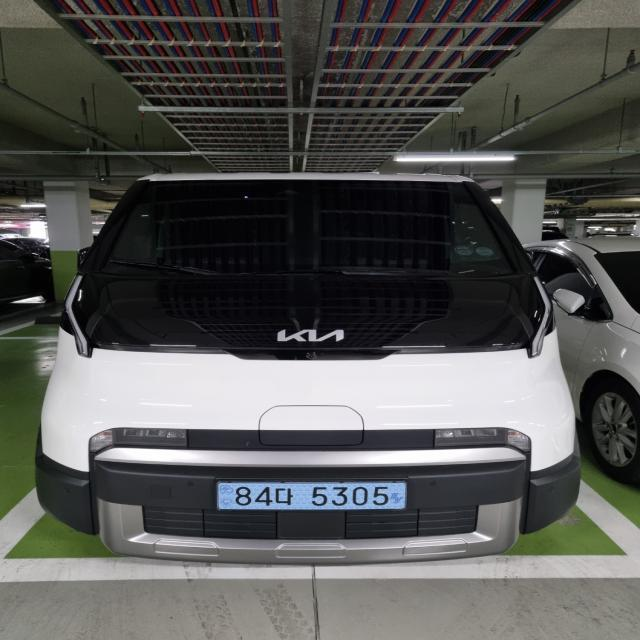car: (203, 473, 426, 523)
carev: (386, 483, 411, 513), (215, 479, 235, 513)
